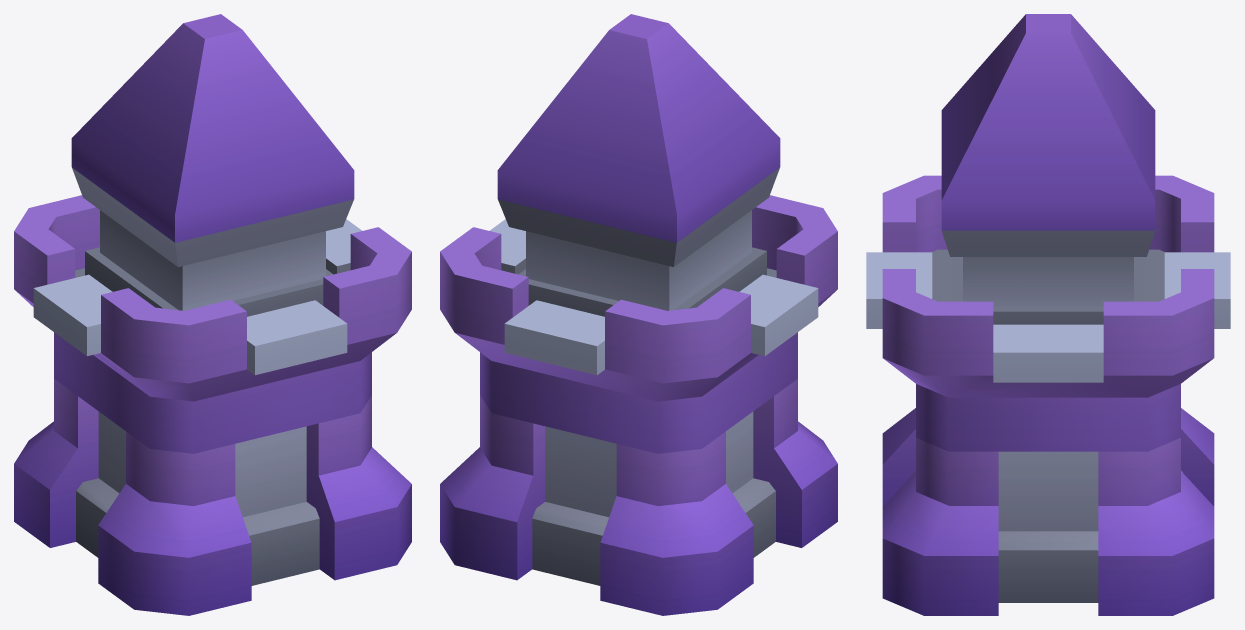
File: kenney-tower-defense-tower-square-build-e.glb
3 views of the same model, side by side, from view 1: azimuth 30°, elevation 25°; view 2: azimuth 150°, elevation 25°; view 3: azimuth 270°, elevation 25° (orthographic). The views are drawn at different scales.
Visible parts, largest first — view 1: tower-square-build-e; view 2: tower-square-build-e; view 3: tower-square-build-e.
Part boxes in pixels (<box>): tower-square-build-e: <box>14,14,411,615</box>; tower-square-build-e: <box>440,14,837,615</box>; tower-square-build-e: <box>866,14,1230,615</box>.
Size of the model in its own units: 1.1 by 1.74 by 1.1.
1 material, 1 textured.
